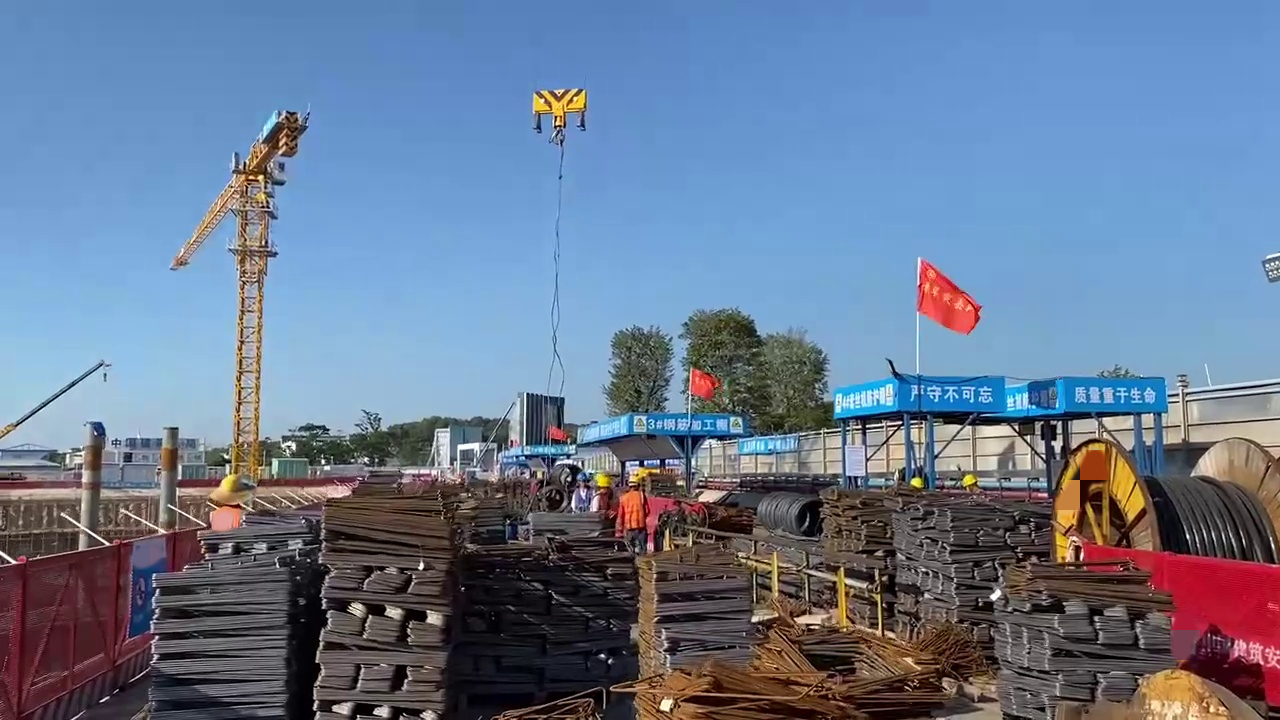fence: (1073, 538, 1280, 708), (3, 533, 151, 720)
helmet: (221, 475, 247, 492)
hook: (530, 83, 588, 137)
person: (210, 474, 252, 542), (619, 473, 648, 552), (593, 479, 612, 525), (570, 470, 586, 519)
rebar: (288, 475, 453, 720), (1003, 573, 1185, 720), (153, 560, 319, 720), (897, 489, 1025, 684), (626, 556, 769, 718), (675, 623, 948, 700), (818, 489, 902, 583)
slogan: (1056, 376, 1166, 405), (905, 378, 1006, 407)
vest: (622, 490, 645, 529)
